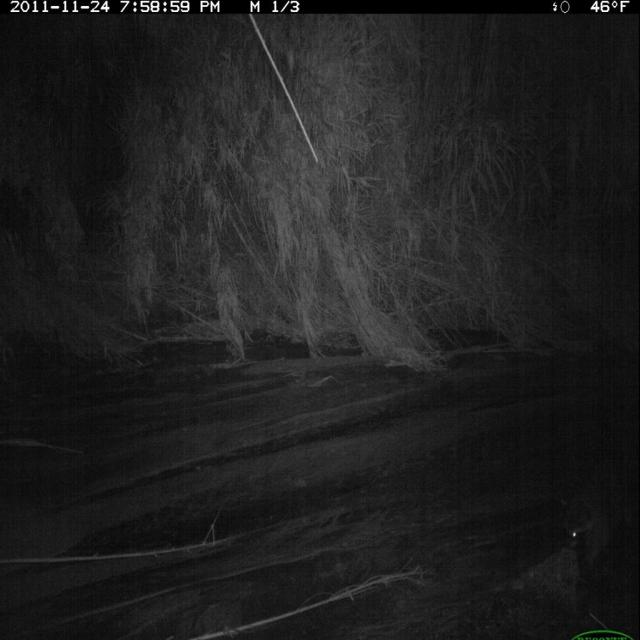raccoon: (552, 469, 639, 587)
